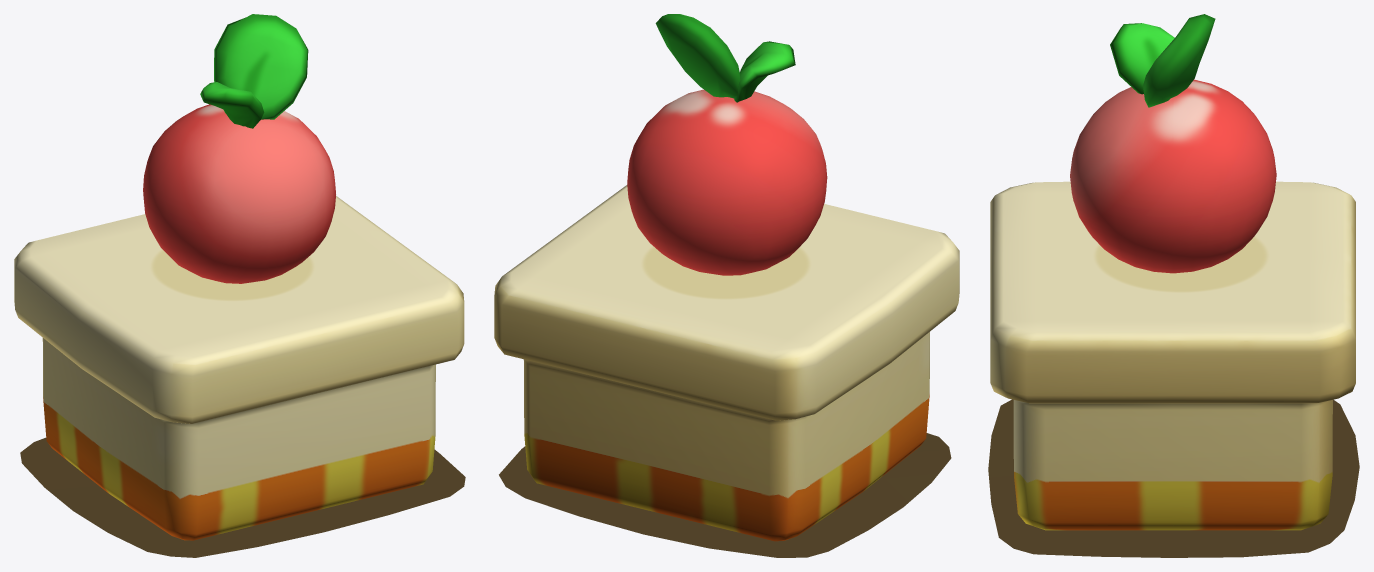
Rendered from AppleTable.fbx.
3 views of the same model, side by side, from view 1: azimuth 30°, elevation 25°; view 2: azimuth 150°, elevation 25°; view 3: azimuth 270°, elevation 25° (orthographic). The views are drawn at different scales.
Visible parts, largest first — view 1: AppleTable_a, AppleTable_b, AppleTable_shadow; view 2: AppleTable_a, AppleTable_b, AppleTable_shadow; view 3: AppleTable_a, AppleTable_b, AppleTable_shadow.
Part boxes in pixels (<box>): AppleTable_a: <box>14,196,464,540</box>; AppleTable_b: <box>143,14,335,283</box>; AppleTable_shadow: <box>20,437,465,557</box>; AppleTable_a: <box>494,185,959,541</box>; AppleTable_b: <box>627,14,827,275</box>; AppleTable_shadow: <box>499,433,951,557</box>; AppleTable_a: <box>990,181,1355,530</box>; AppleTable_b: <box>1070,14,1276,273</box>; AppleTable_shadow: <box>988,399,1359,557</box>.
Size of the model in its own units: 115 by 144 by 104.
2 materials, 1 textured.
